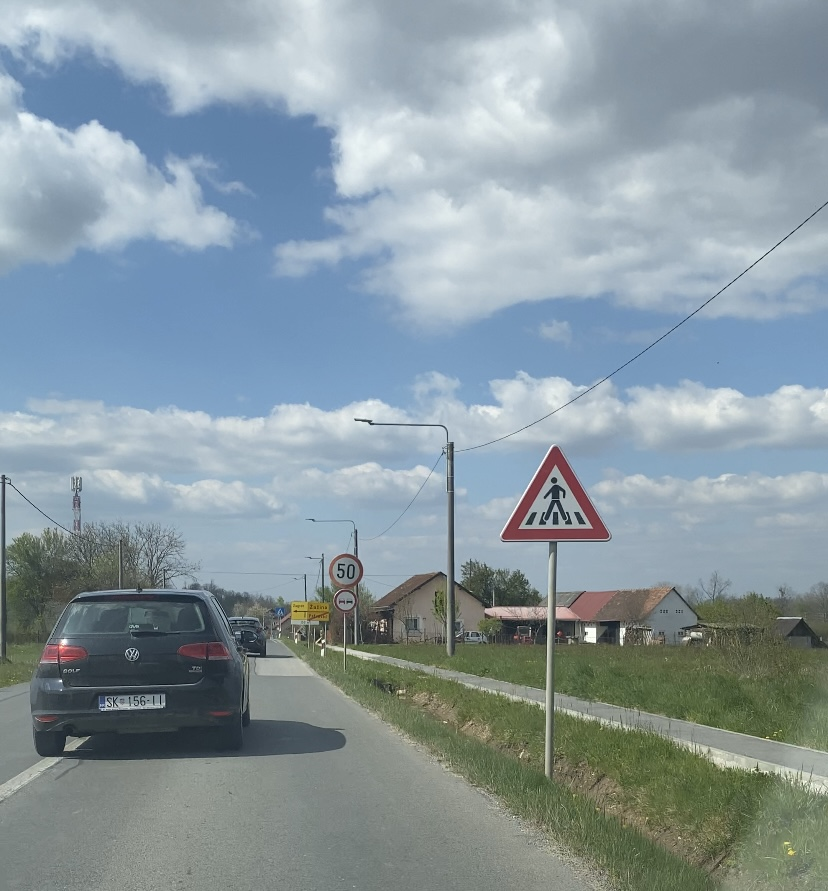Ograničenje brzine 50: (328, 552, 362, 588)
Približavanje pješačkom prijelazu: (501, 444, 611, 541)
Zabrana pretjecanja: (333, 589, 357, 612)
